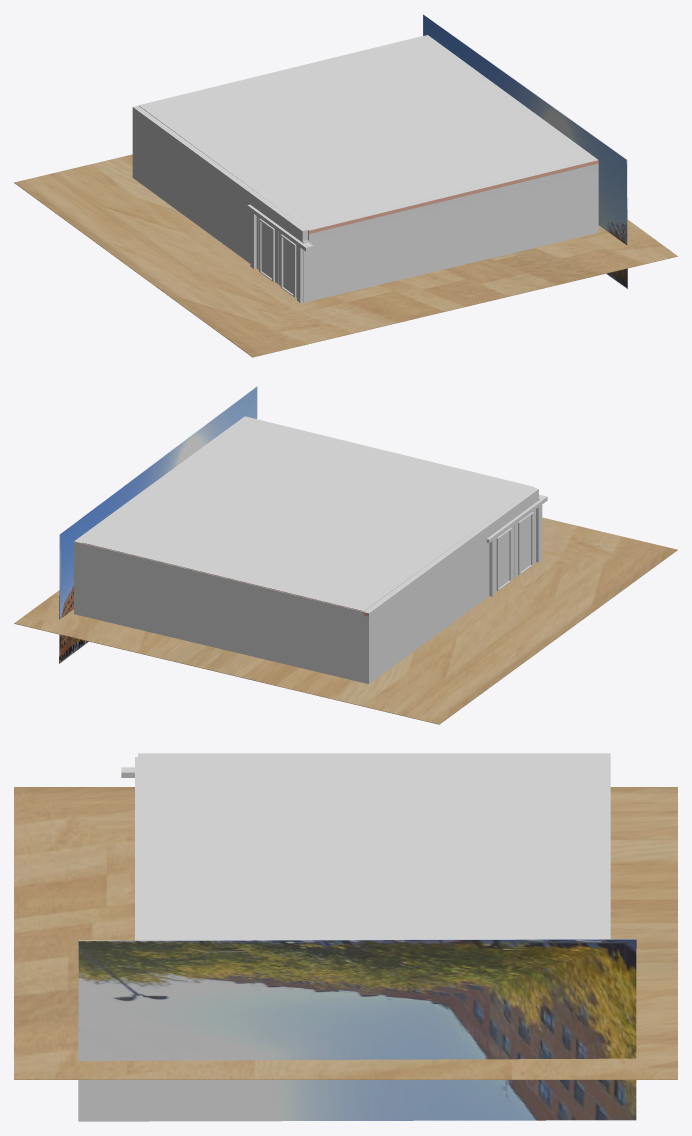
File: museob2.glb
The picture shows the model from 3 angles, top to bottom: view 1: azimuth 30°, elevation 25°; view 2: azimuth 150°, elevation 25°; view 3: azimuth 270°, elevation 25°; orthographic projection. The views are drawn at different scales.
Parts seen in each view (by area): view 1: Cube.006, Cube, Cube.007, Cube.002, Cube.001; view 2: Cube.006, Cube, Cube.007, Cube.001, Cube.002; view 3: Cube.007, Cube.006, Cube.
Part boxes in pixels (x1=…): Cube.006: x1=132, y1=35, x2=598, y2=302; Cube: x1=14, y1=154, x2=677, y2=357; Cube.007: x1=423, y1=14, x2=628, y2=288; Cube.002: x1=258, y1=217, x2=278, y2=283; Cube.001: x1=278, y1=232, x2=296, y2=297; Cube.006: x1=74, y1=416, x2=539, y2=683; Cube: x1=14, y1=517, x2=677, y2=724; Cube.007: x1=59, y1=386, x2=257, y2=663; Cube.001: x1=514, y1=510, x2=535, y2=577; Cube.002: x1=495, y1=525, x2=513, y2=590; Cube.007: x1=78, y1=939, x2=636, y2=1121; Cube.006: x1=135, y1=753, x2=610, y2=940; Cube: x1=14, y1=787, x2=677, y2=1079.
Bounding box in the file's own units: 932 × 272 × 905.
5 materials, 2 textured.
